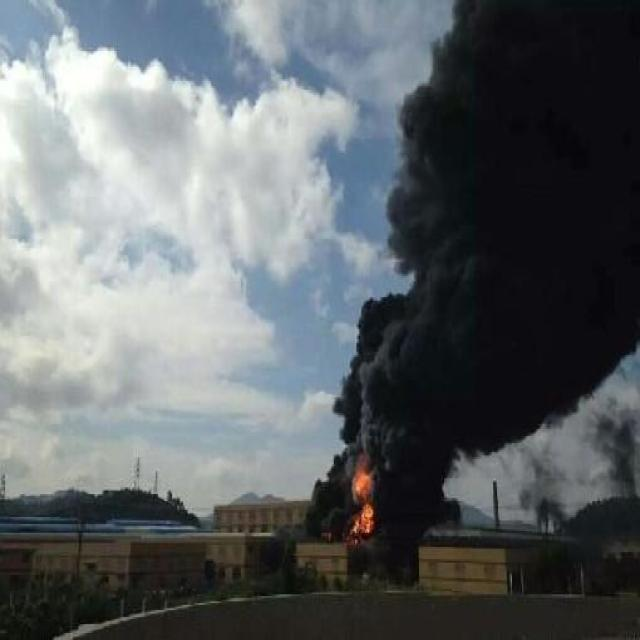Fire: (344, 468, 374, 536)
Smoke: (303, 1, 640, 587)
